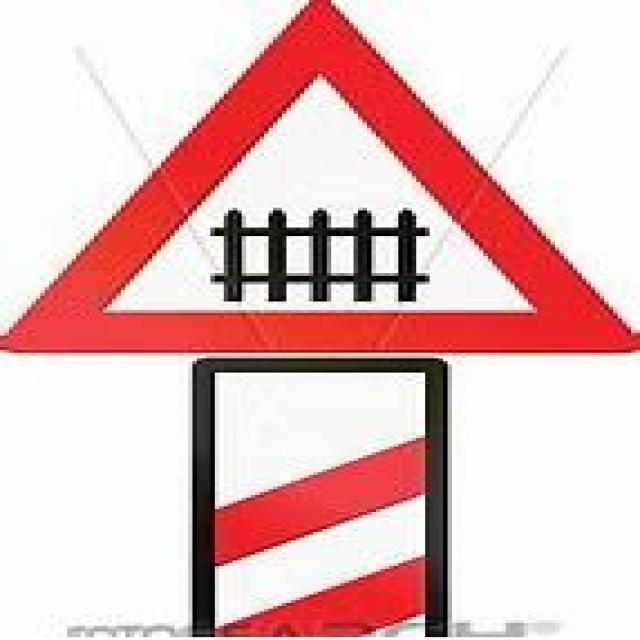guarded level crossing: (20, 10, 617, 355)
